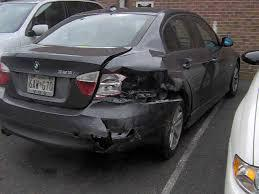Taillight-Damage: (80, 67, 124, 101)
quaterpanel-dent: (116, 51, 180, 103)
rear-bumper-dent: (75, 110, 144, 159)
